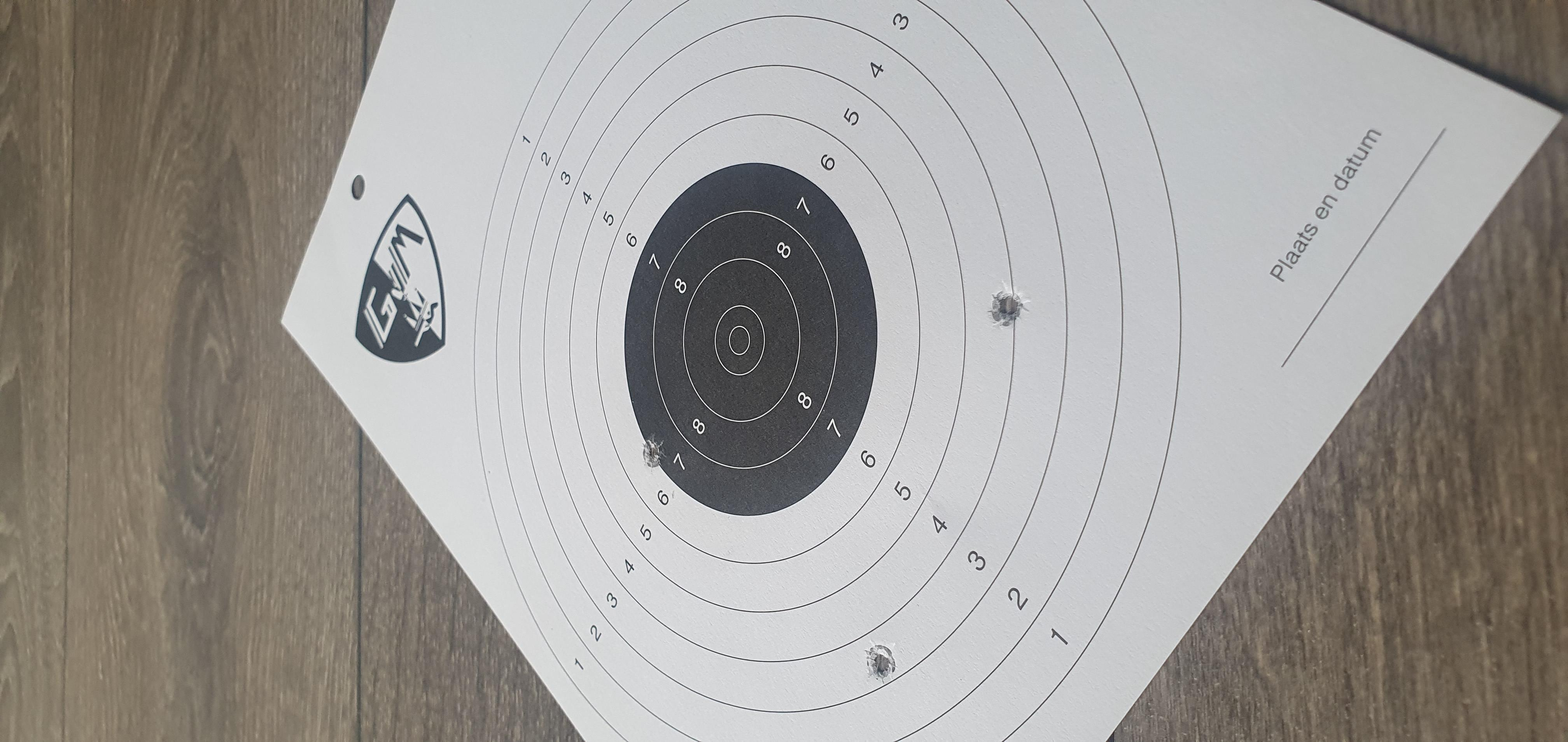hole: (855, 466, 966, 487), (119, 408, 218, 425), (571, 300, 649, 320)
